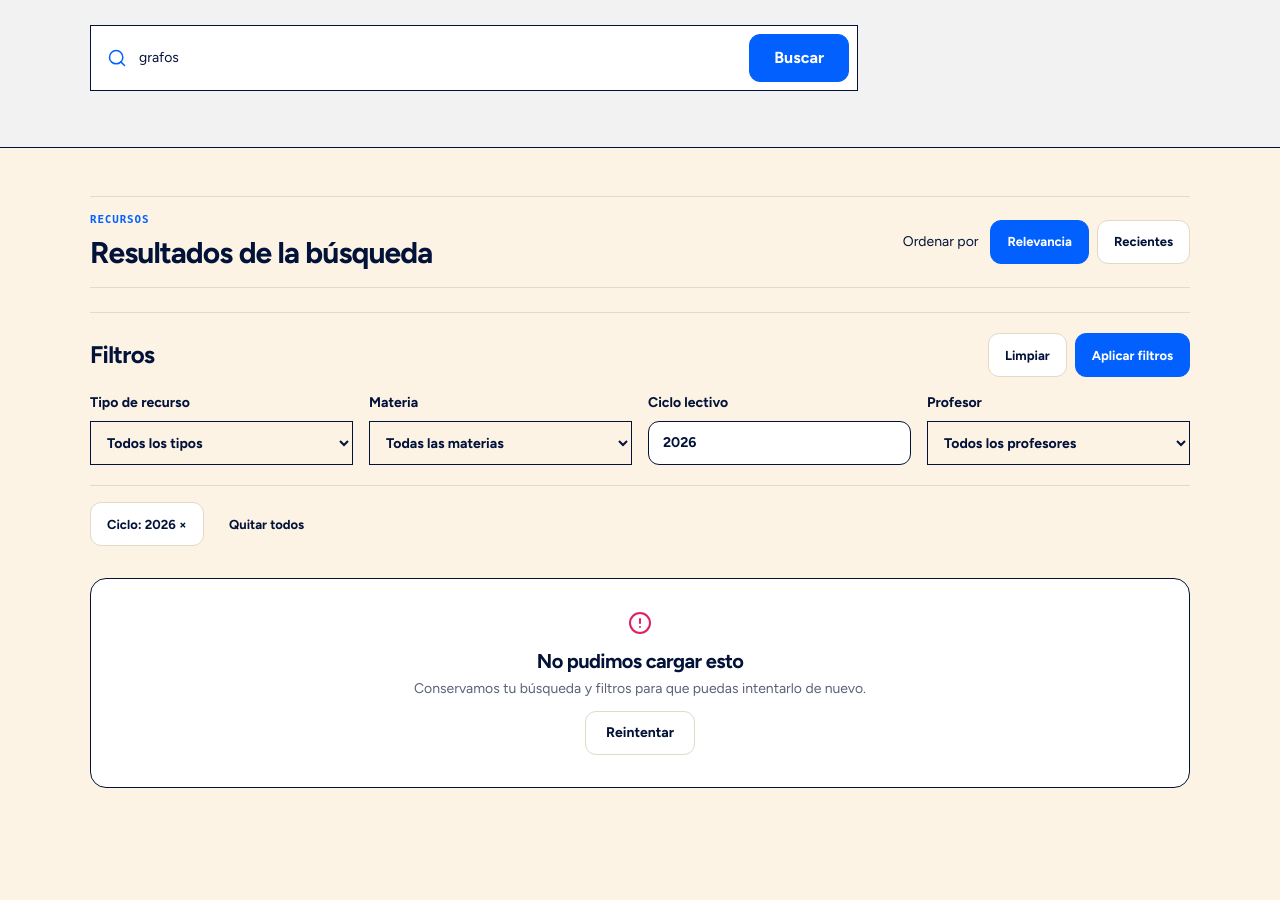
MaterialSearchPage › retries a failed resource request without replacing the URL-backed state
(page scrolled)
Expected: the message is shown, [90,578,1190,788]
Expected: the search field holds "grafos", [139,34,737,82]
Click the button "Reintentar".
click(640, 733)  # box [585,711,695,755]
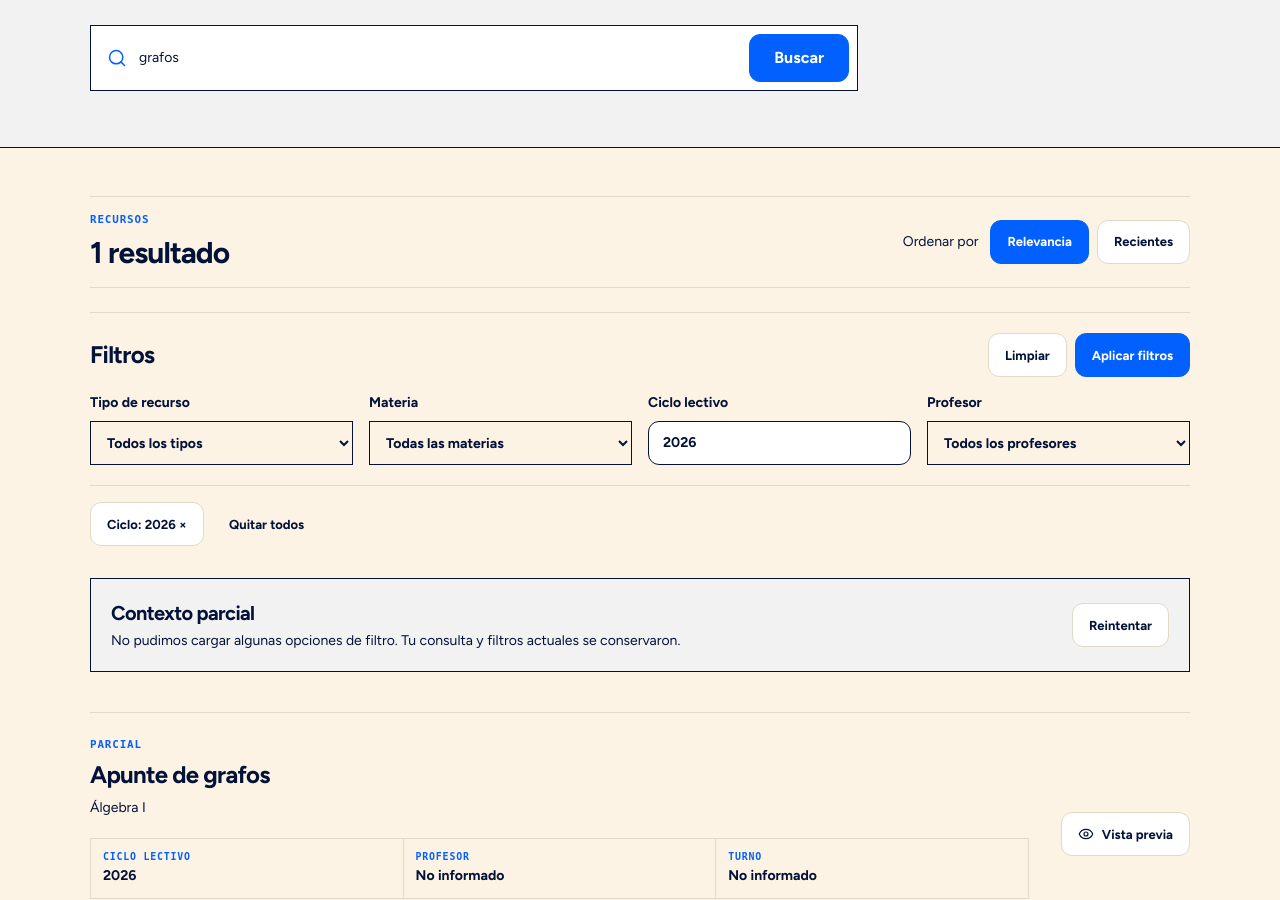
Now the heading "Apunte de grafos" is shown, box [90,760,270,789]
